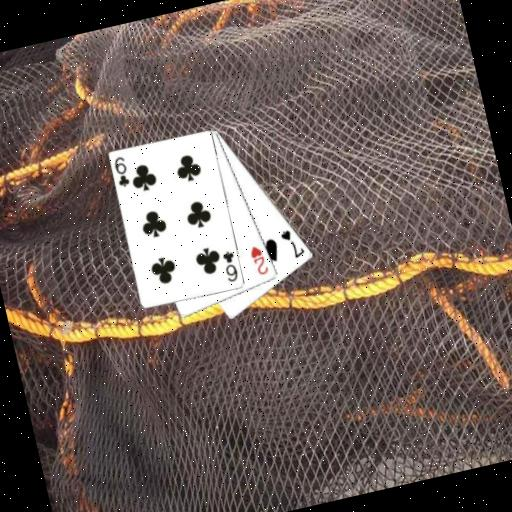2H: (246, 242, 272, 279)
6C: (219, 247, 242, 285), (110, 153, 133, 191)
7S: (276, 224, 308, 263)
